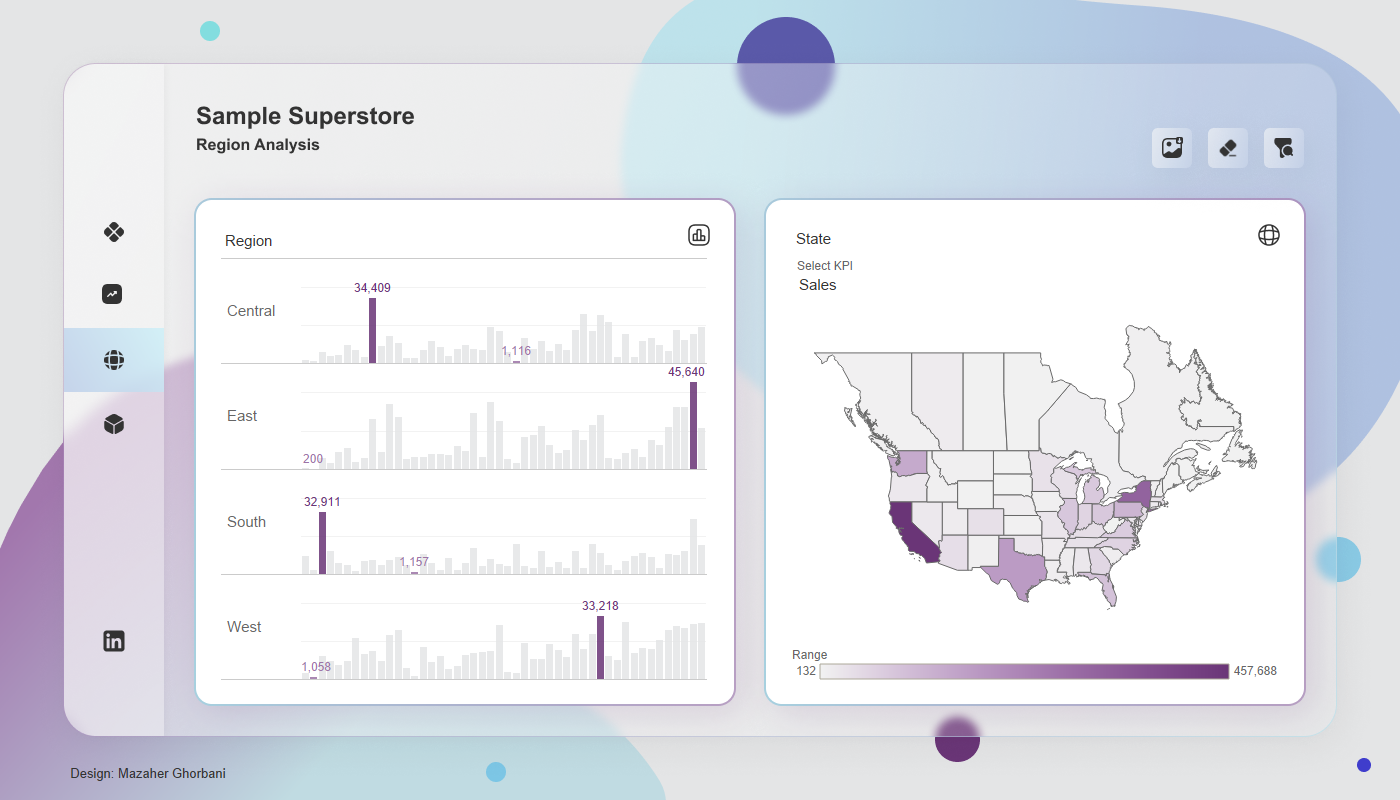

The page's visual inventory and layout, read from the dashboard file:
{"tool":"tableau","page":{"name":"Regional Analysis","canvas":[1400,800],"ordinal":2},"visuals":[{"type":"image","param":"Image/Region Analysis.png","box":[0,0,1400,800]},{"type":"dashboard-object","box":[1160,136,24,24]},{"type":"worksheet","title":"Reset Filters","mark":"Shape","cols":["Calculation_707909609538879489"],"box":[1216,136,24,24]},{"type":"dashboard-object","box":[1272,136,24,24]},{"type":"filter","title":"Regions","param":"[federated.0edz2lz09zrftf18khcru1ptet20].[yr:Order Date:ok]","box":[1120,181,174,54]},{"type":"dashboard-object","box":[64,200,100,64]},{"type":"worksheet","title":"States","mark":"Automatic","box":[792,224,487,455]},{"type":"worksheet","title":"Regions","mark":"Bar","rows":["Region","Calculation_707909609555533826"],"cols":["Order Date"],"box":[221,226,486,454]},{"type":"filter","title":"Regions","param":"[federated.0edz2lz09zrftf18khcru1ptet20].[none:Category:nk]","box":[1120,235,174,54]},{"type":"parameter","param":"[Parameters].[Parameter 1]","box":[797,258,127,46]},{"type":"dashboard-object","box":[64,264,100,64]},{"type":"filter","title":"Regions","param":"[federated.0edz2lz09zrftf18khcru1ptet20].[none:Sub-Category:nk]","box":[1120,289,174,54]},{"type":"dashboard-object","box":[64,328,100,64]},{"type":"filter","title":"Regions","param":"[federated.0edz2lz09zrftf18khcru1ptet20].[none:State/Province:nk]","box":[1120,343,174,54]},{"type":"dashboard-object","box":[64,392,100,64]},{"type":"filter","title":"Regions","param":"[federated.0edz2lz09zrftf18khcru1ptet20].[none:City:nk]","box":[1120,397,174,54]},{"type":"filter","title":"Regions","param":"[federated.0edz2lz09zrftf18khcru1ptet20].[none:Segment:nk]","box":[1120,451,174,54]},{"type":"dashboard-object","box":[64,456,100,64]},{"type":"legend","title":"States","param":"[federated.0edz2lz09zrftf18khcru1ptet20].[usr:Calculation_707909609555533826:qk]","box":[792,644,490,44]}]}

Visuals, with their boxes in screenshot pixels (x1, y1, x2, y2), scaled from the page's 1400x800 canvas onto the 1400x800 screenshot:
image: (x1=0, y1=0, x2=1399, y2=799)
dashboard-object: (x1=1160, y1=136, x2=1184, y2=160)
"Reset Filters" worksheet (Shape marks): (x1=1216, y1=136, x2=1240, y2=160)
dashboard-object: (x1=1272, y1=136, x2=1296, y2=160)
"Regions" filter: (x1=1120, y1=181, x2=1294, y2=235)
dashboard-object: (x1=64, y1=200, x2=164, y2=264)
"States" worksheet: (x1=792, y1=224, x2=1279, y2=679)
"Regions" worksheet (Bar marks): (x1=221, y1=226, x2=707, y2=680)
"Regions" filter: (x1=1120, y1=235, x2=1294, y2=289)
parameter: (x1=797, y1=258, x2=924, y2=304)
dashboard-object: (x1=64, y1=264, x2=164, y2=328)
"Regions" filter: (x1=1120, y1=289, x2=1294, y2=343)
dashboard-object: (x1=64, y1=328, x2=164, y2=392)
"Regions" filter: (x1=1120, y1=343, x2=1294, y2=397)
dashboard-object: (x1=64, y1=392, x2=164, y2=456)
"Regions" filter: (x1=1120, y1=397, x2=1294, y2=451)
"Regions" filter: (x1=1120, y1=451, x2=1294, y2=505)
dashboard-object: (x1=64, y1=456, x2=164, y2=520)
"States" legend: (x1=792, y1=644, x2=1282, y2=688)
